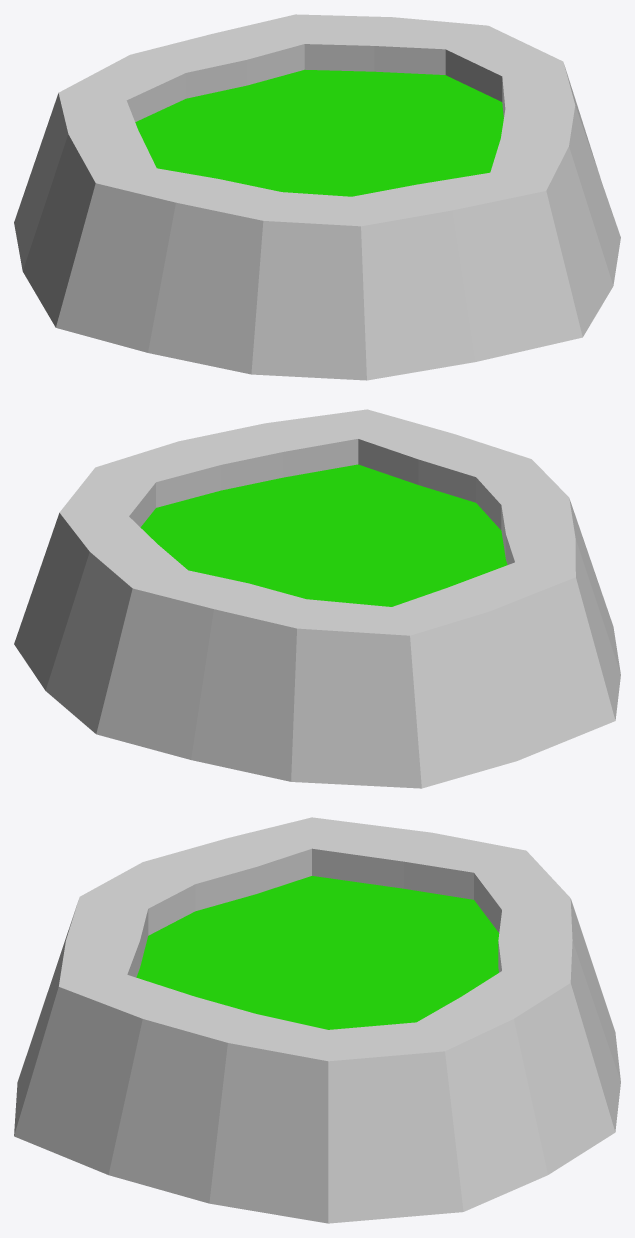
Rendered from geyser.fbx.
The picture shows the model from 3 angles, top to bottom: view 1: azimuth 30°, elevation 25°; view 2: azimuth 150°, elevation 25°; view 3: azimuth 270°, elevation 25°; orthographic projection. The views are drawn at different scales.
Visible parts, largest first — view 1: Cylinder; view 2: Cylinder; view 3: Cylinder.
Part boxes in pixels (x1,y1,x2,y2): Cylinder: [14, 14, 620, 380]; Cylinder: [14, 409, 620, 788]; Cylinder: [14, 817, 620, 1223].
Size of the model in its own units: 352 by 81.77 by 317.
